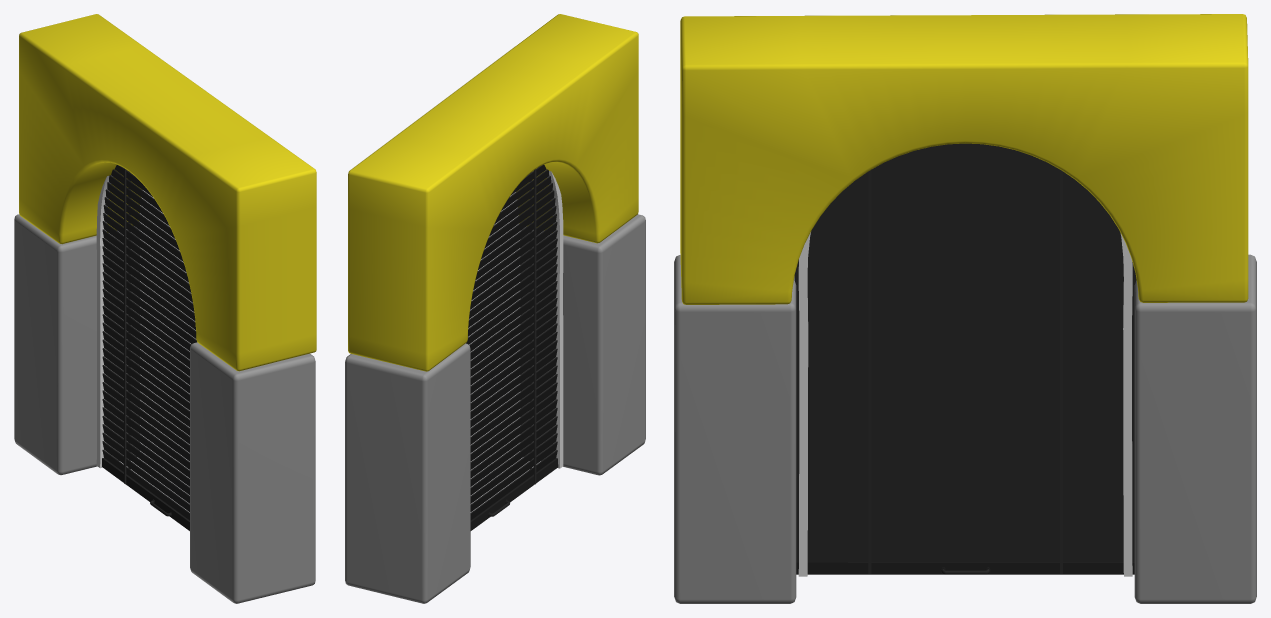
Rendered from Gate.fbx.
3 renders of one model, left to right at view 1: azimuth 30°, elevation 25°; view 2: azimuth 150°, elevation 25°; view 3: azimuth 270°, elevation 25°, orthographic. The views are drawn at different scales.
Parts seen in each view (by area): view 1: dome_room_walls.016, bb_rect.001, factory_grate.001, bb_rect.002, factory_grate_frame.001; view 2: dome_room_walls.016, bb_rect.002, factory_grate.001, bb_rect.001, factory_grate_frame.001; view 3: factory_grate.001, dome_room_walls.016, bb_rect.002, bb_rect.001, factory_grate_frame.001.
Boxes of the visible parts, x1=… form: dome_room_walls.016: x1=19, y1=14, x2=316, y2=371; bb_rect.001: x1=190, y1=342, x2=315, y2=603; factory_grate.001: x1=102, y1=165, x2=196, y2=530; bb_rect.002: x1=14, y1=214, x2=139, y2=475; factory_grate_frame.001: x1=96, y1=175, x2=112, y2=468; dome_room_walls.016: x1=348, y1=14, x2=638, y2=371; bb_rect.002: x1=345, y1=343, x2=470, y2=603; factory_grate.001: x1=466, y1=164, x2=558, y2=530; bb_rect.001: x1=520, y1=214, x2=645, y2=475; factory_grate_frame.001: x1=545, y1=170, x2=563, y2=468; factory_grate.001: x1=794, y1=143, x2=1136, y2=574; dome_room_walls.016: x1=680, y1=14, x2=1248, y2=304; bb_rect.002: x1=1134, y1=254, x2=1256, y2=603; bb_rect.001: x1=674, y1=254, x2=796, y2=603; factory_grate_frame.001: x1=798, y1=232, x2=1132, y2=576.
Size of the model in its own units: 102 by 469 by 457.
